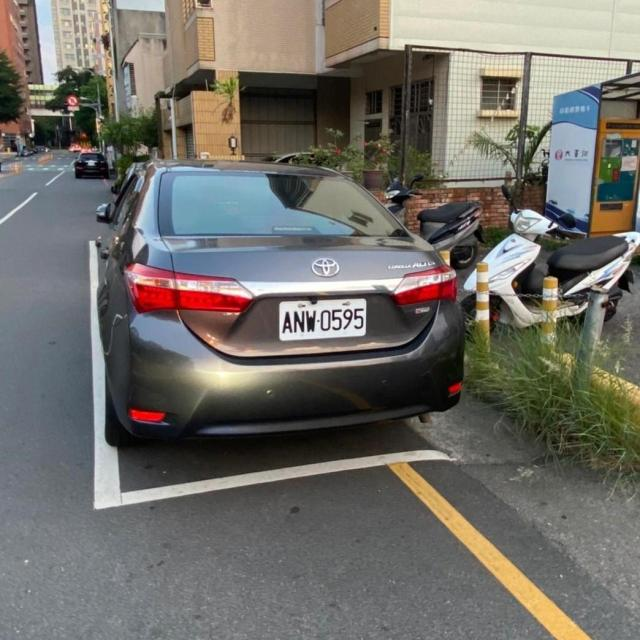W: (273, 293, 368, 343)
